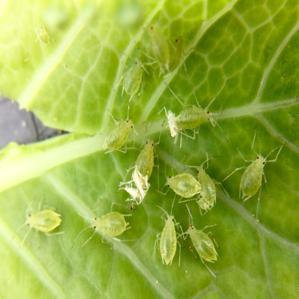Green peach aphid: (231, 126, 291, 209), (10, 194, 73, 247), (181, 217, 229, 284), (171, 90, 236, 139), (80, 204, 138, 254), (147, 209, 184, 282), (146, 19, 191, 72), (92, 108, 139, 156), (109, 52, 154, 101), (191, 154, 224, 213), (126, 134, 163, 179), (162, 164, 199, 204)
